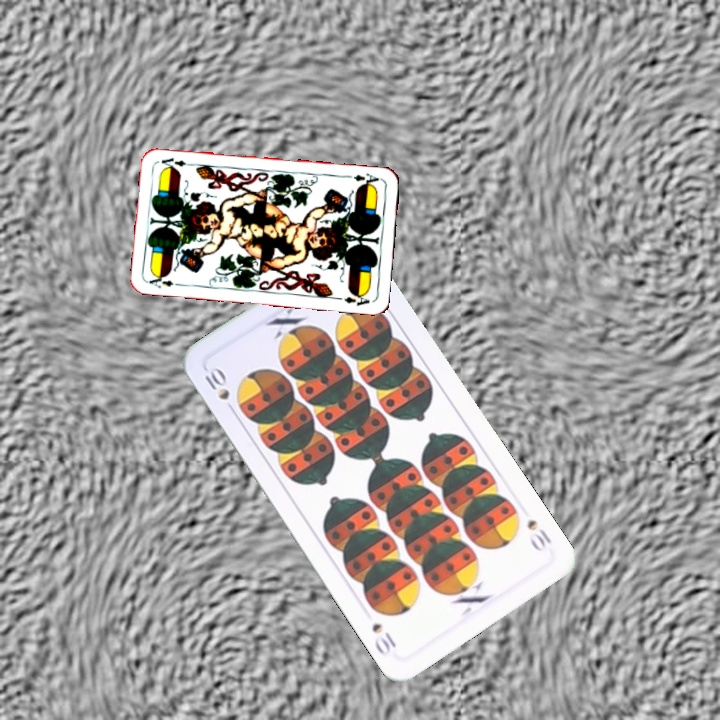EA: (144, 271, 185, 290), (350, 169, 384, 189)
S10: (197, 362, 239, 417), (523, 515, 555, 555)
